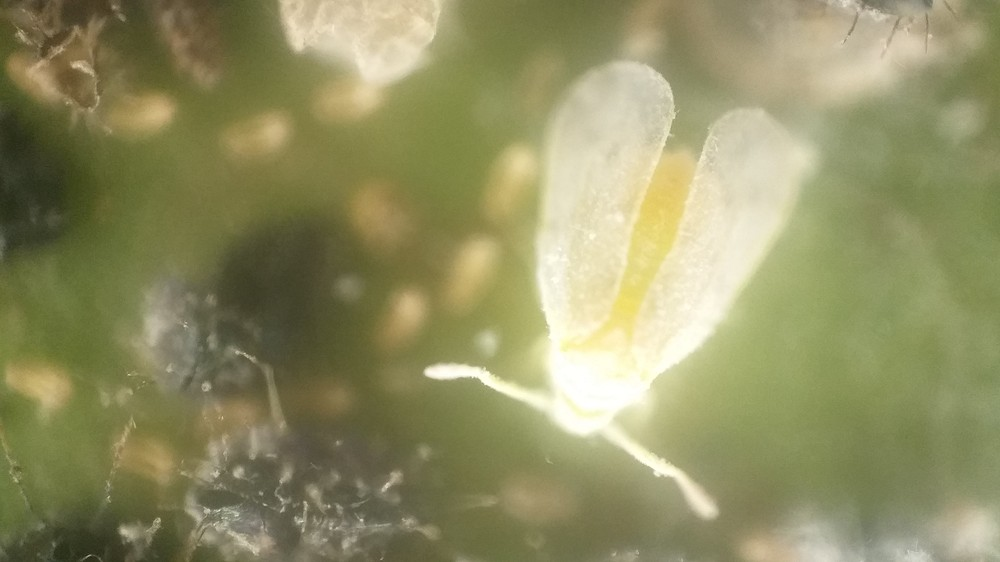Mosca Blanca: (412, 56, 817, 529)
